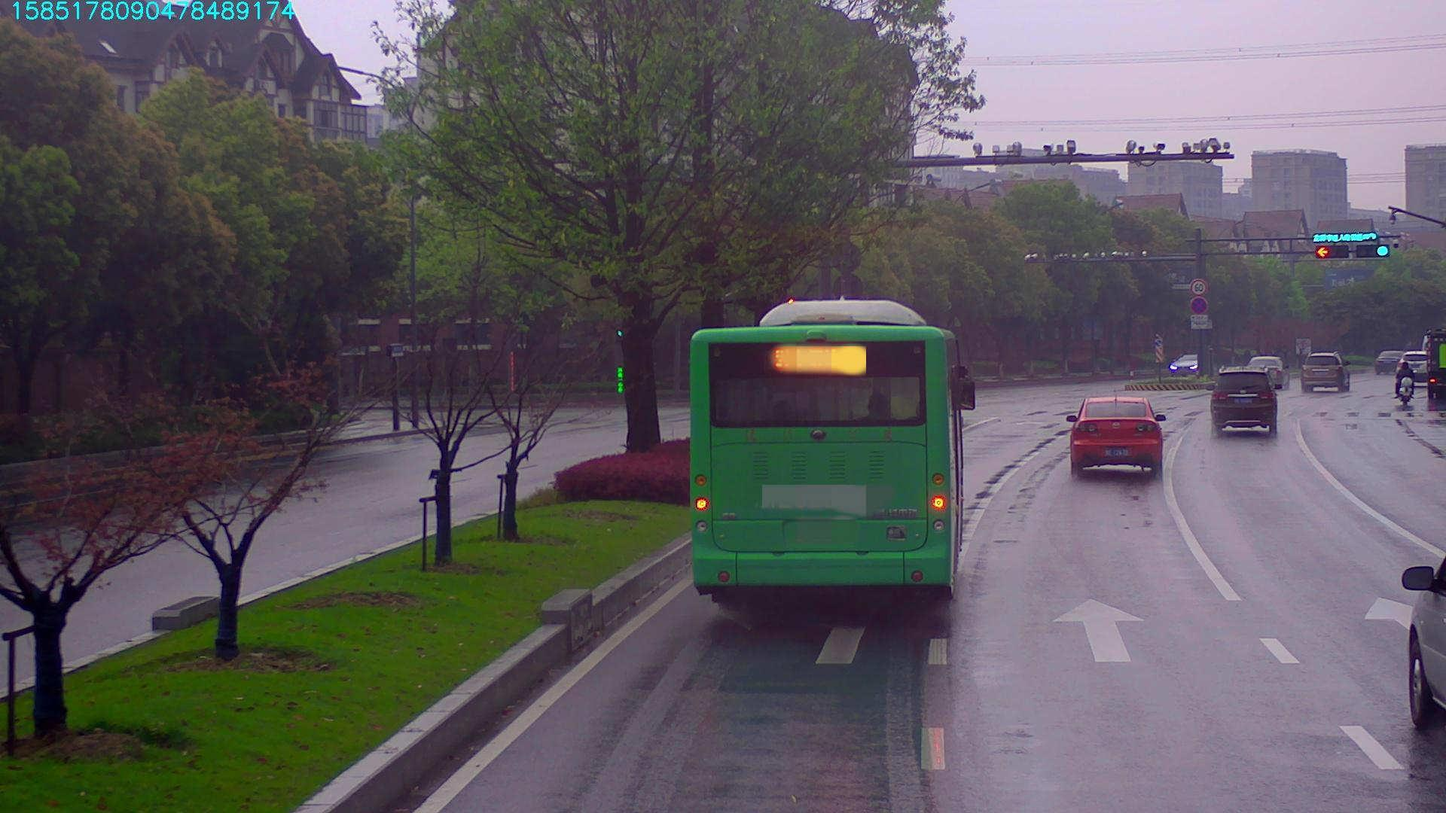green: (1355, 242, 1385, 263)
red: (1313, 242, 1347, 261)
wait_on: (1310, 230, 1380, 242)
